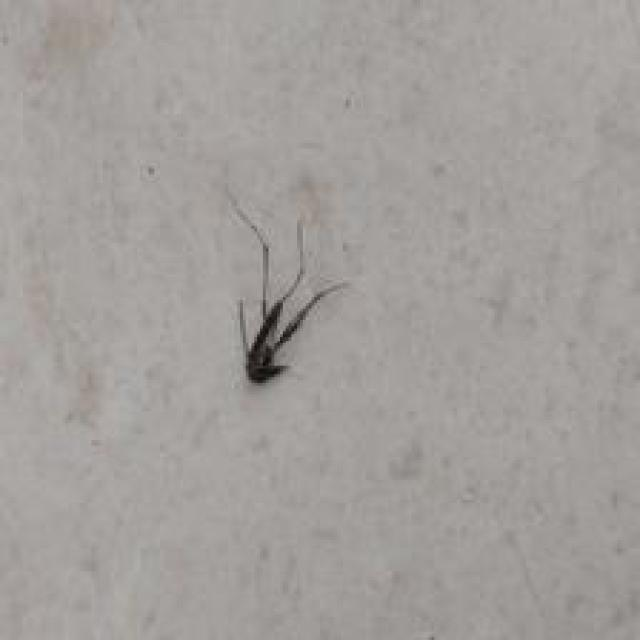Aedes albopictus: (223, 184, 348, 384)
